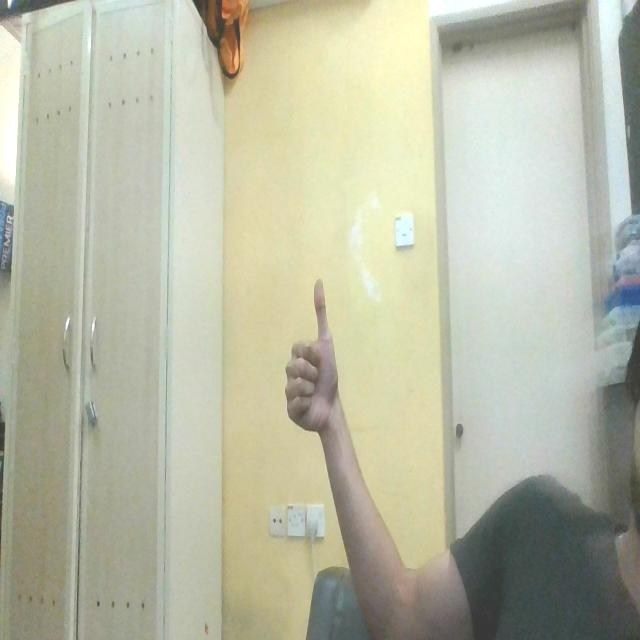thumbs up: (284, 270, 342, 442)
